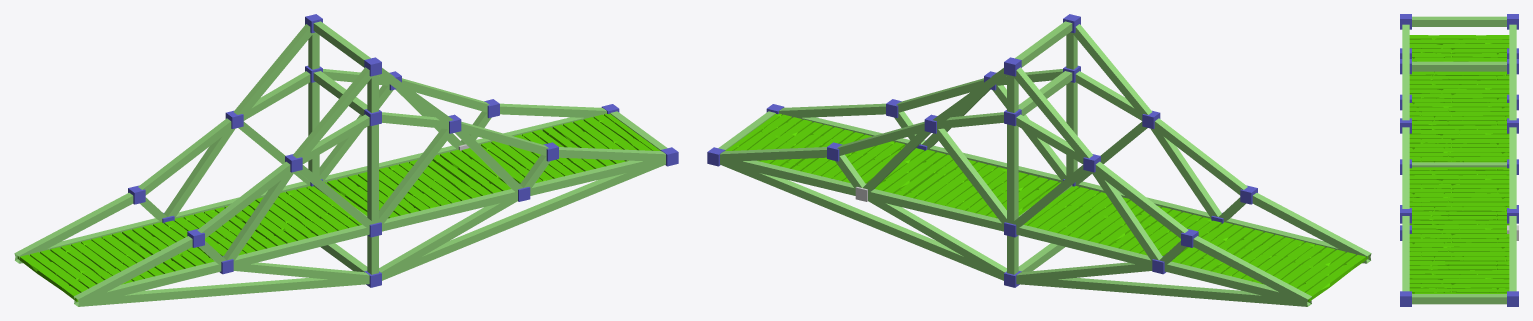
The model's file is Bridge_Middle.fbx.
The picture shows the model from 3 angles, left to right: view 1: azimuth 30°, elevation 25°; view 2: azimuth 150°, elevation 25°; view 3: azimuth 270°, elevation 25°; orthographic projection. The views are drawn at different scales.
Visible parts, largest first — view 1: Bridge_Middle; view 2: Bridge_Middle; view 3: Bridge_Middle.
Part boxes in pixels (box(x1,y1,x2,y2)): Bridge_Middle: box(14, 14, 678, 306); Bridge_Middle: box(707, 14, 1371, 306); Bridge_Middle: box(1400, 14, 1518, 306).
Size of the model in its own units: 1170 by 416 by 222.
